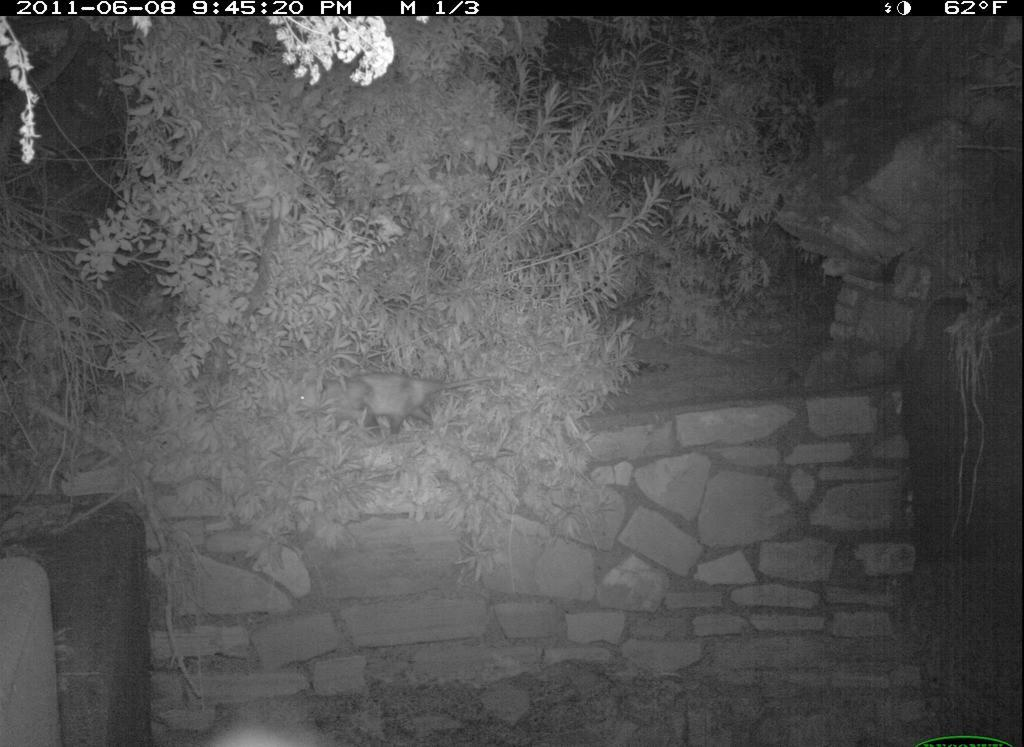opossum: (290, 360, 516, 445)
